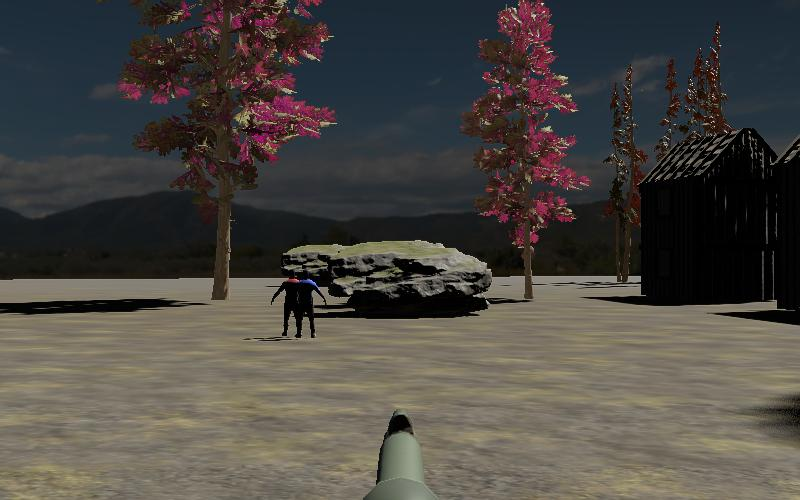House: (637, 128, 779, 304), (768, 119, 800, 315)
Human: (294, 270, 328, 340), (270, 269, 304, 338)
